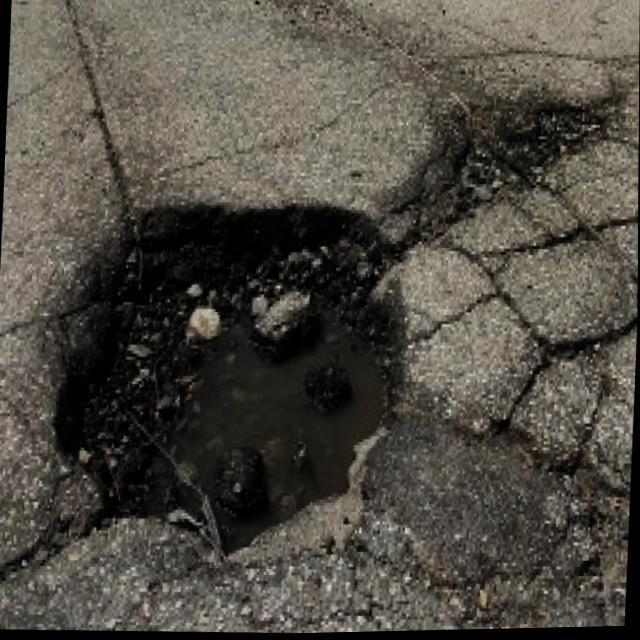Pothole: (53, 192, 415, 560)
